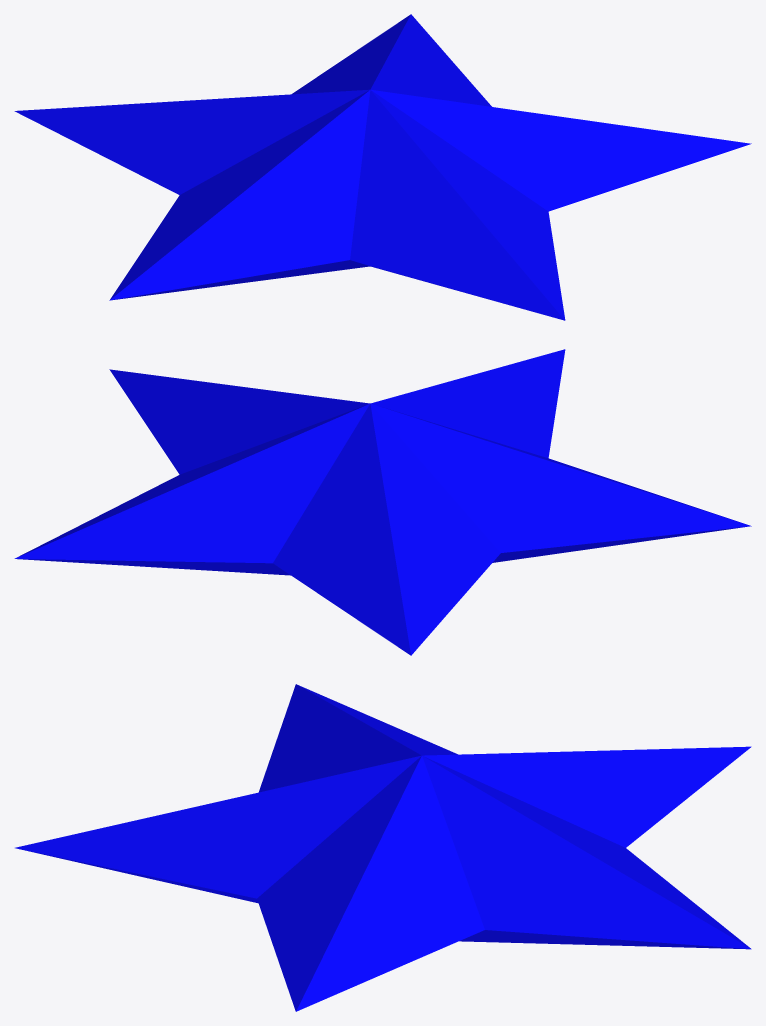
The model's file is star_blue.glb.
3 renders of one model, top to bottom at view 1: azimuth 30°, elevation 25°; view 2: azimuth 150°, elevation 25°; view 3: azimuth 270°, elevation 25°, orthographic. The views are drawn at different scales.
Visible parts, largest first — view 1: 円, 円.001; view 2: 円, 円.001; view 3: 円, 円.001.
Boxes of the visible parts, x1=… form: 円: x1=14, y1=14, x2=751, y2=320; 円.001: x1=112, y1=260, x2=529, y2=310; 円: x1=14, y1=349, x2=751, y2=655; 円.001: x1=17, y1=526, x2=749, y2=575; 円: x1=15, y1=684, x2=751, y2=1011; 円.001: x1=19, y1=849, x2=749, y2=949.
Size of the model in its own units: 0.3805 by 0.1 by 0.3618.
